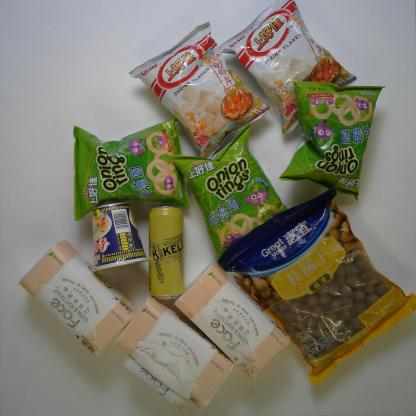Alcohol: (146, 206, 188, 302)
Dried Food: (215, 186, 416, 388)
Instant Noodles: (85, 199, 151, 275)
Puffed Food: (127, 21, 276, 161), (216, 0, 360, 138), (171, 124, 292, 260), (279, 76, 388, 202), (66, 118, 194, 225)
Tissue: (17, 239, 140, 360), (114, 290, 235, 413), (173, 260, 294, 382)
